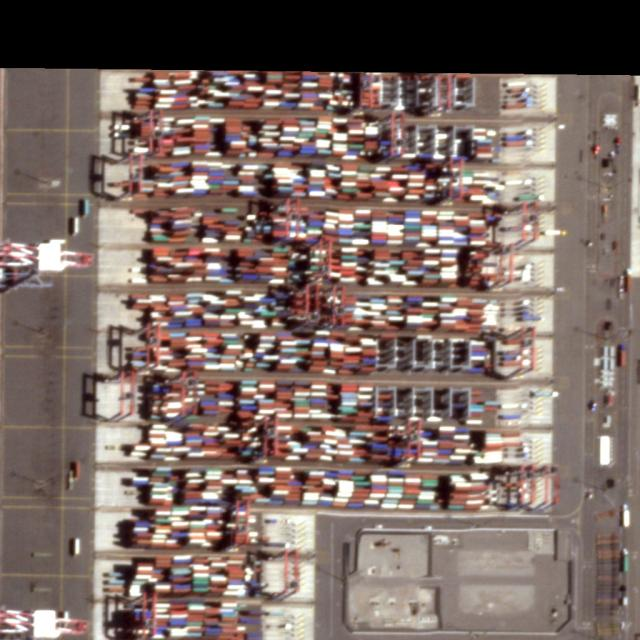containers: (109, 71, 553, 635)
